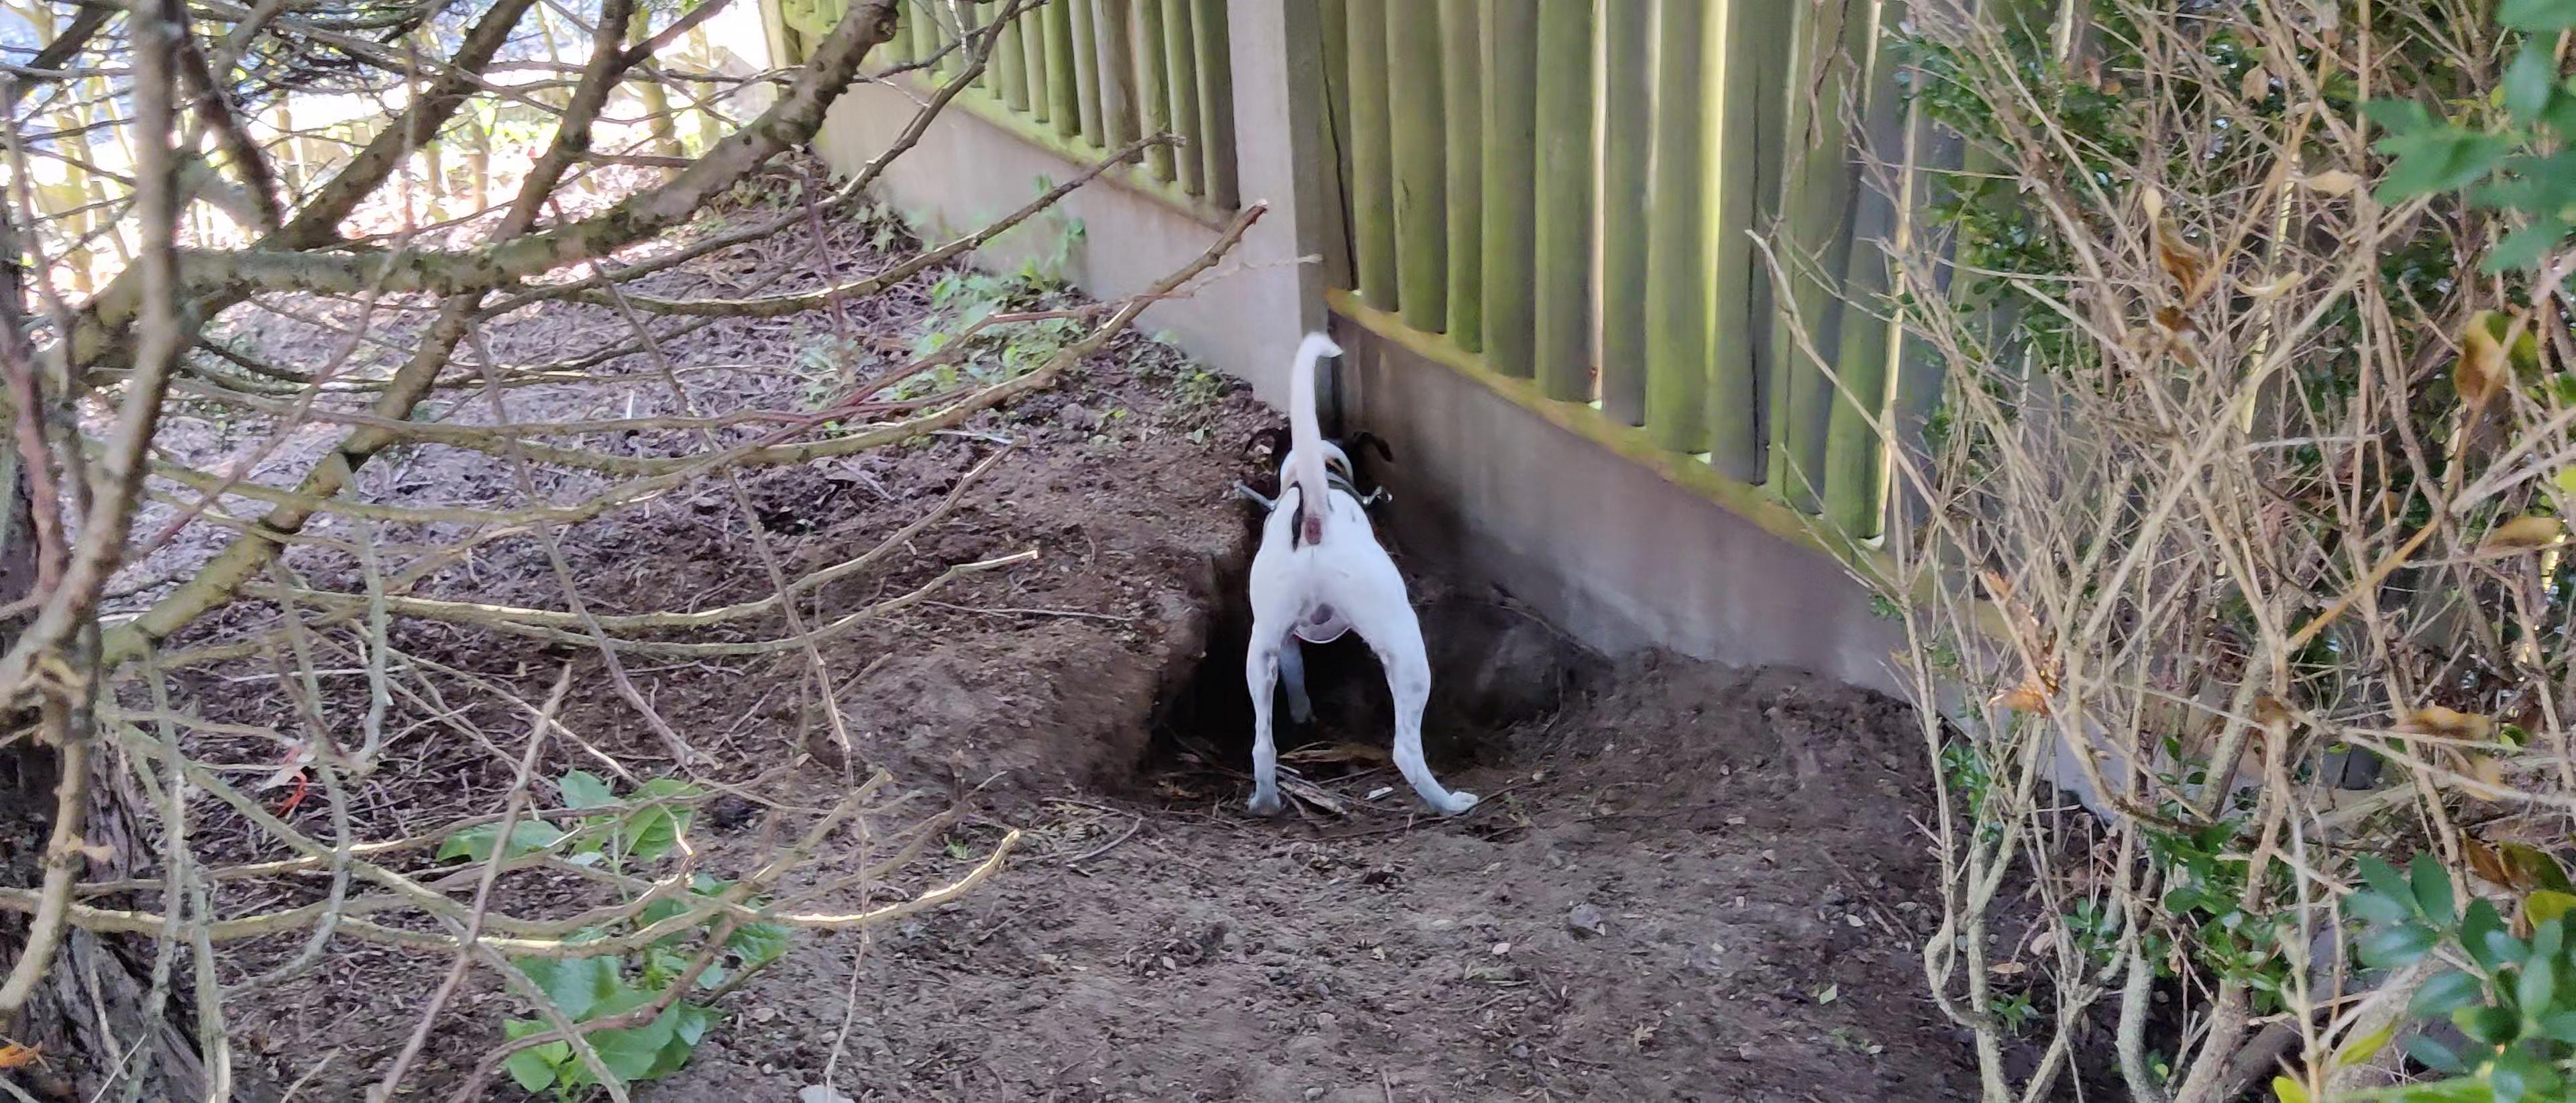Dog: (1217, 314, 1493, 850)
